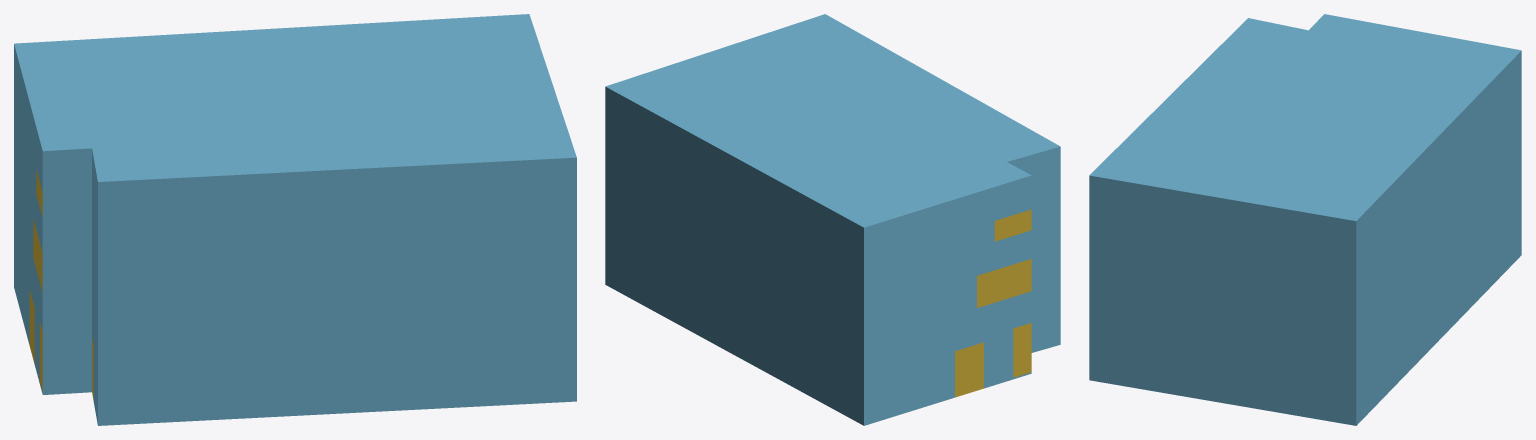
The model's file is bldg_52a2bc3b-95a9-4e42-8609-16795be78c2b.obj.
3 renders of one model, left to right at view 1: azimuth 30°, elevation 25°; view 2: azimuth 150°, elevation 25°; view 3: azimuth 270°, elevation 25°, orthographic. The views are drawn at different scales.
Size of the model in its own units: 18.63 by 8.59 by 16.44.
